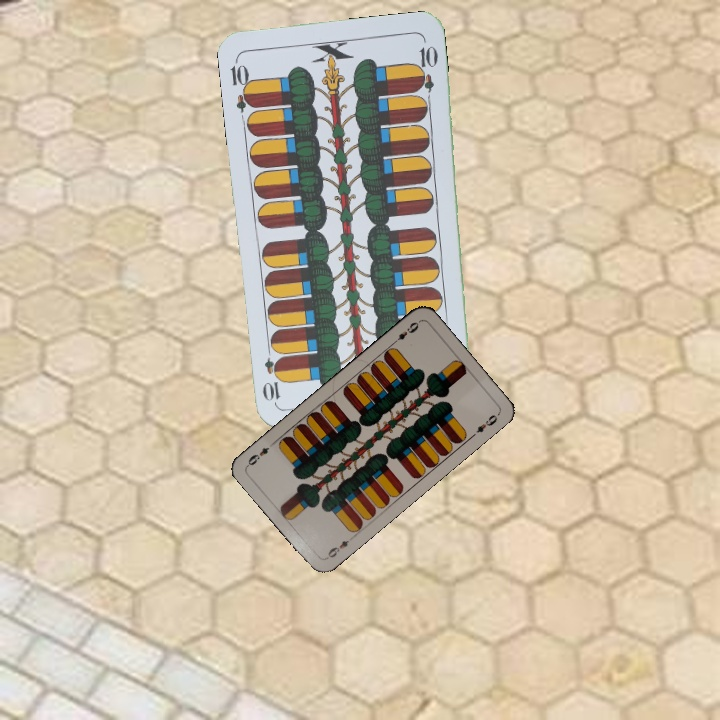E10: (227, 55, 257, 114)
E9: (322, 532, 357, 562), (388, 318, 421, 347)
